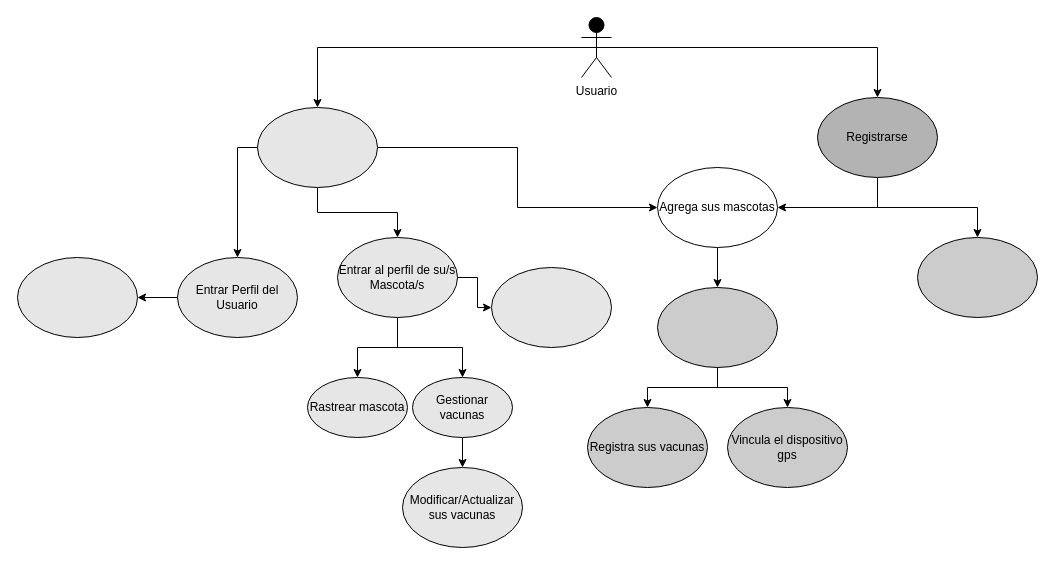
This 1055x565 diagram has some shape labels left out. Each missing label, with the centre of its shape:
"Crea perfil de sus mascotas" belongs at [717,327].
"Crea su perfil de Usuario" belongs at [977,277].
"Iniciar Sesion" belongs at [317,147].
"Modificar/Actualizar su hoja de vida" belongs at [551,307].
"Modificar/Actualizar sus datos" belongs at [77,297].
